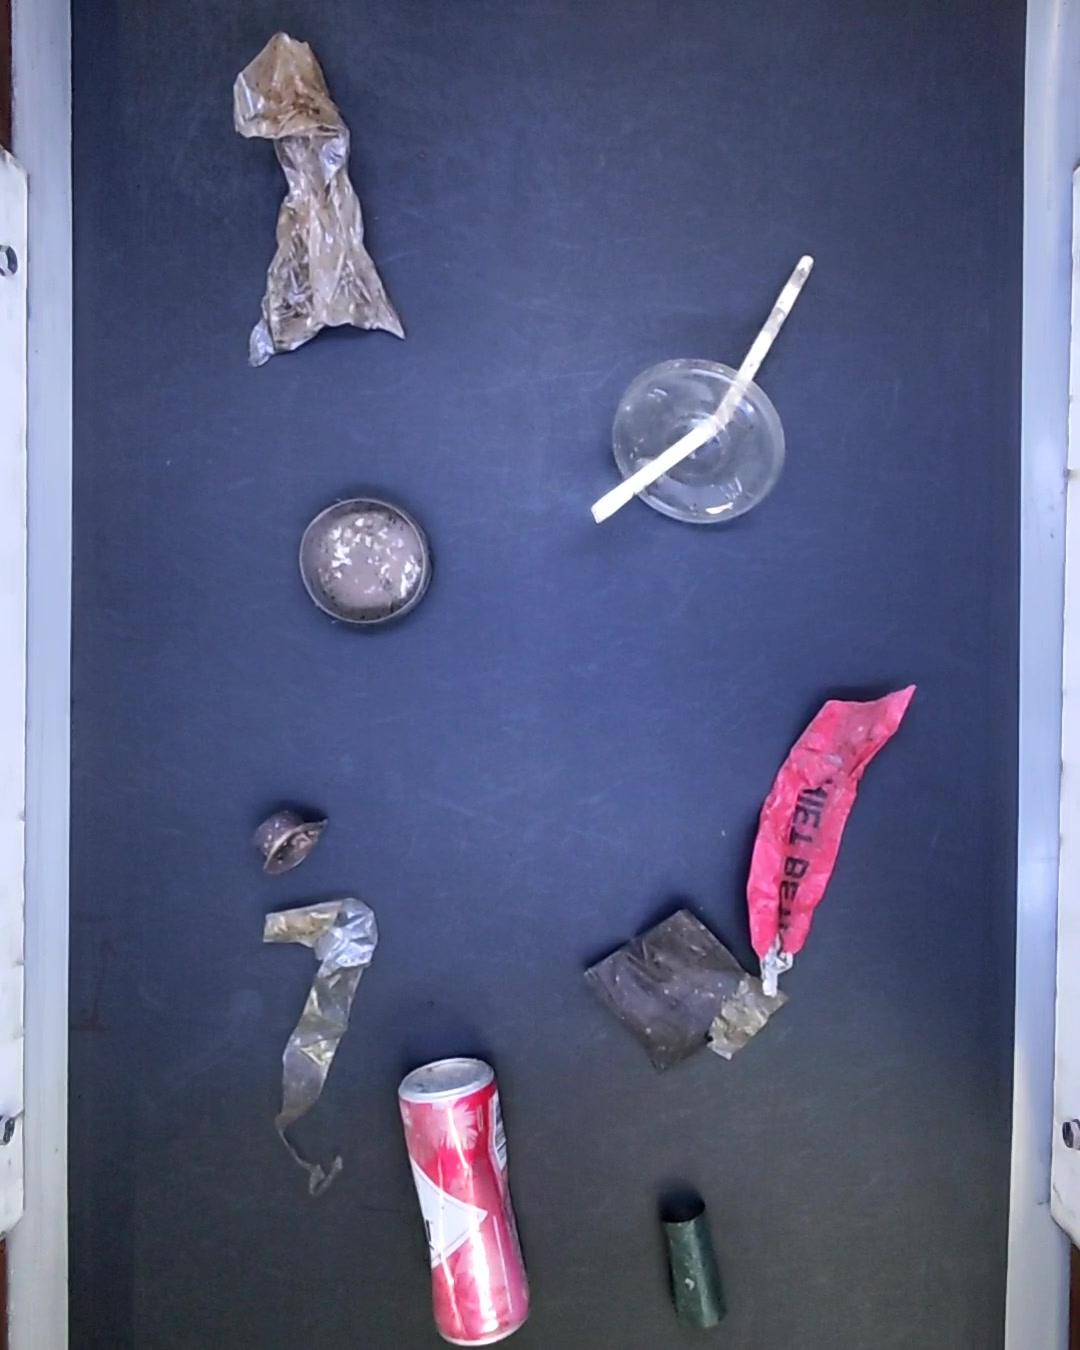Drankblikjes: (397, 1054, 538, 1349)
Plastic folies of stukken daarvan 2.5- 50 cm: (229, 34, 402, 368), (258, 887, 368, 1197)
